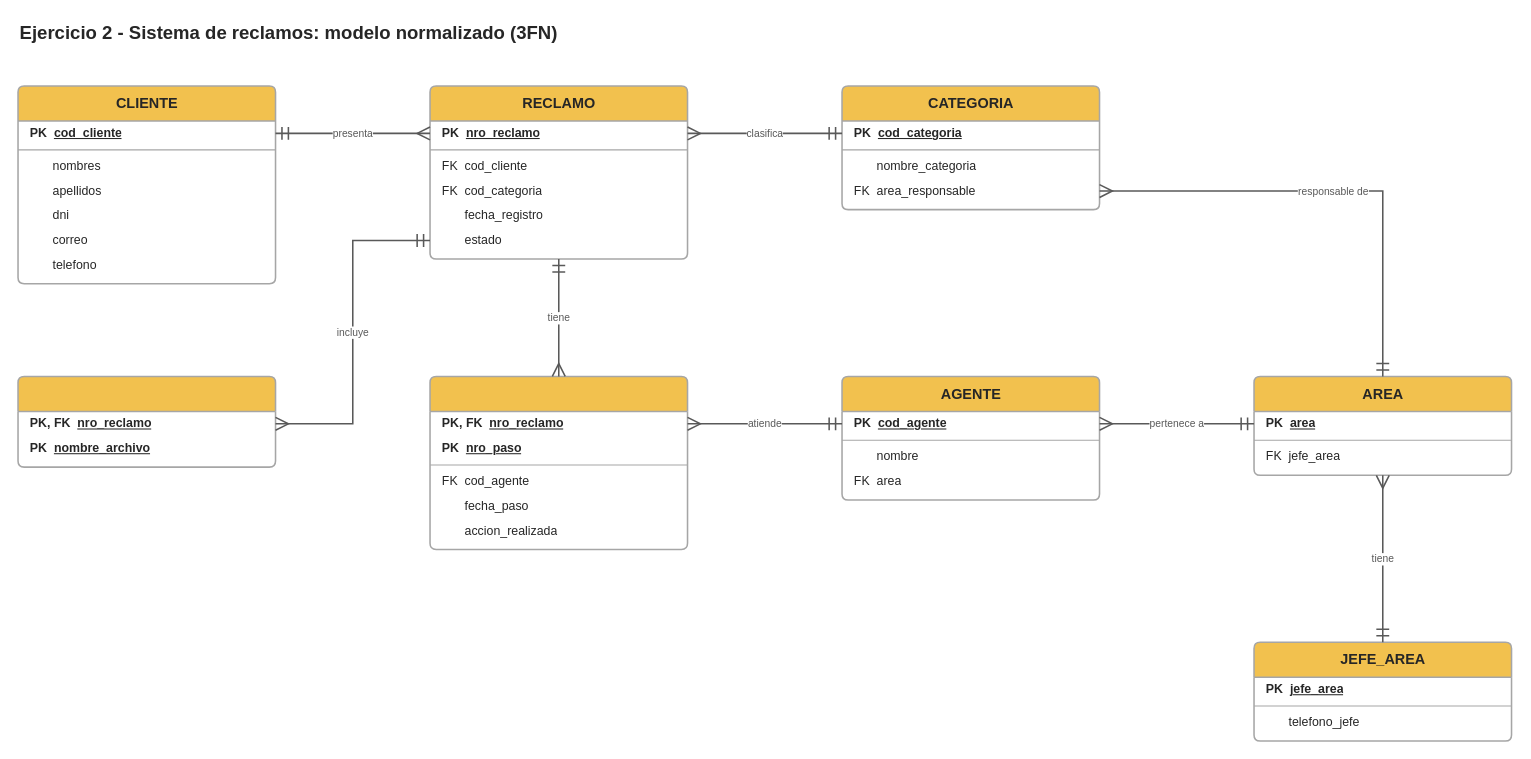
Some shapes in this 1531 by 759 pixel diagram are drawn without their labels. Here are the shapes that lost their labels. From the top down, the box of each, then its label:
(17, 375, 276, 467): ARCHIVO_ADJUNTO
(429, 375, 688, 550): SEGUIMIENTO
